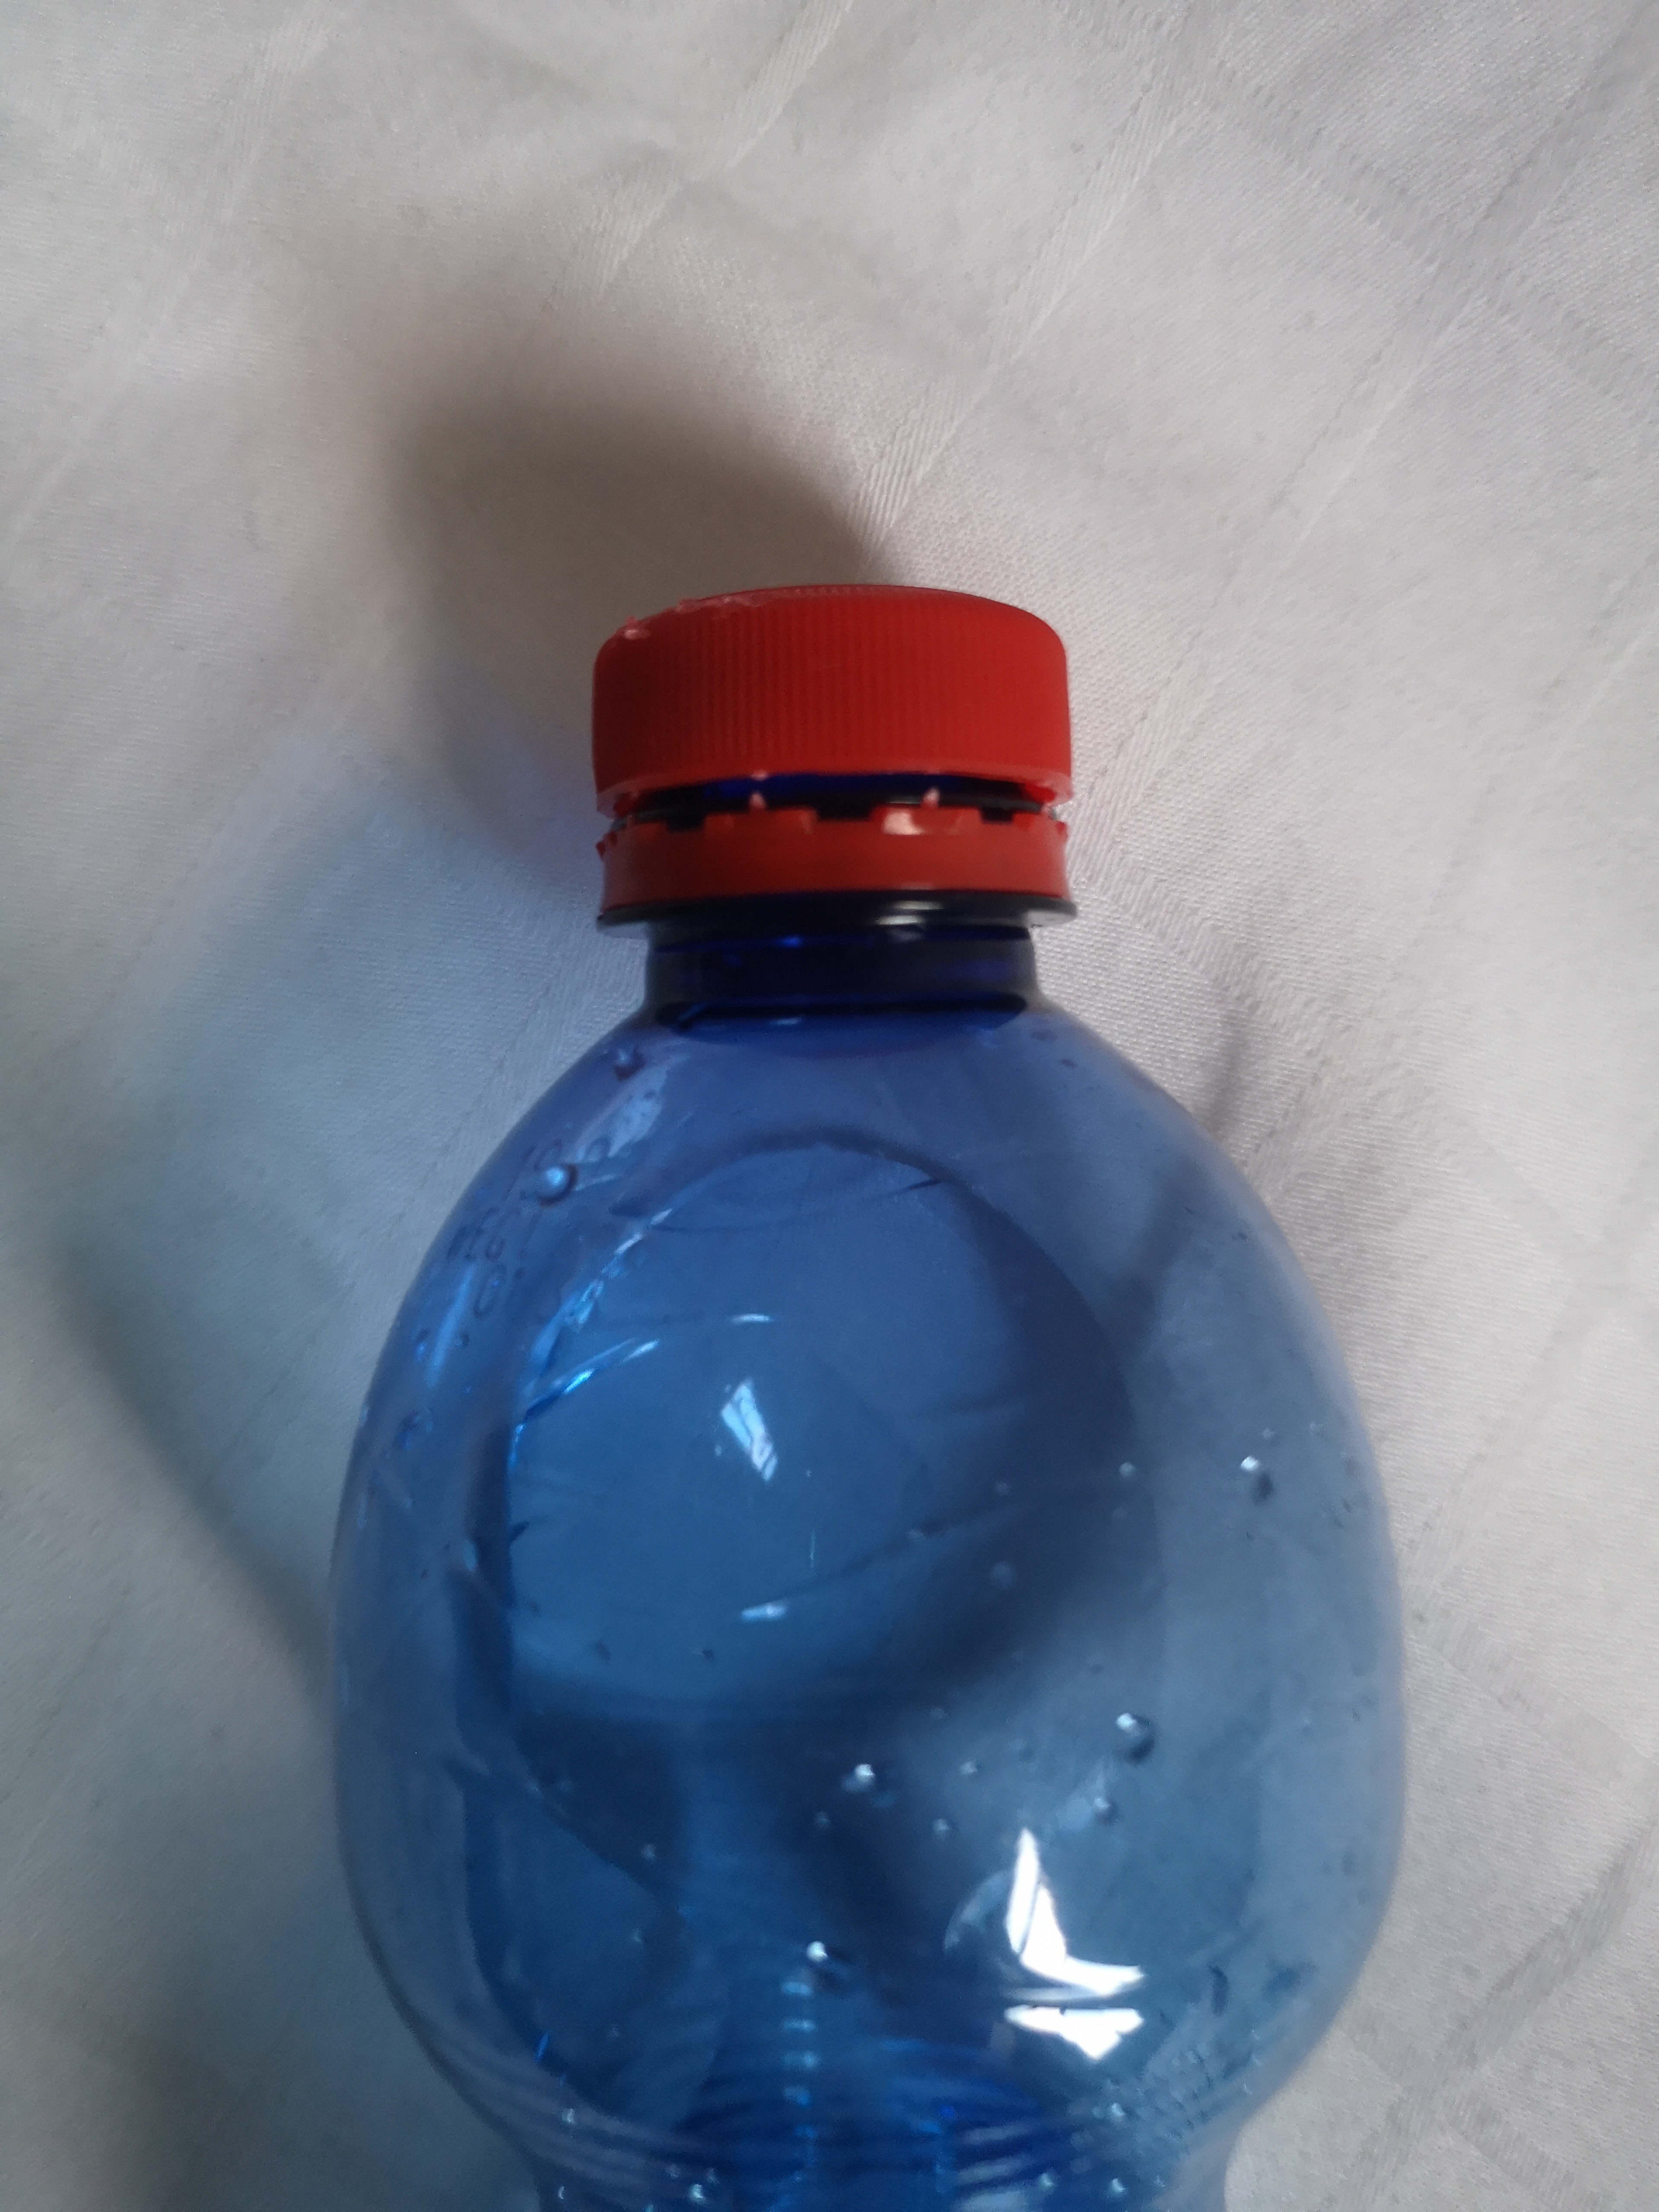plastic_bottle: (293, 550, 1457, 2212)
